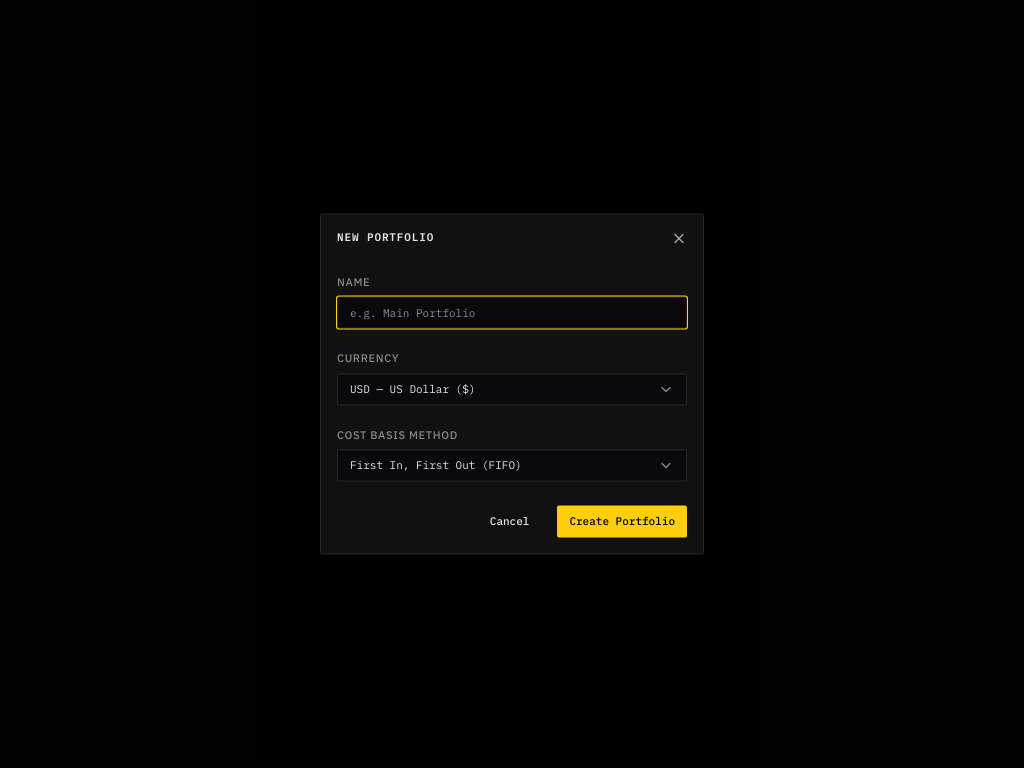
it: CreatePortfolioDialog — name validation (BP-330) › shows 'Name is required' when submitting blank name
// Click Create Portfolio without typing anything.
Click the button "Create Portfolio" at point(622, 522), box [557,506,687,538]
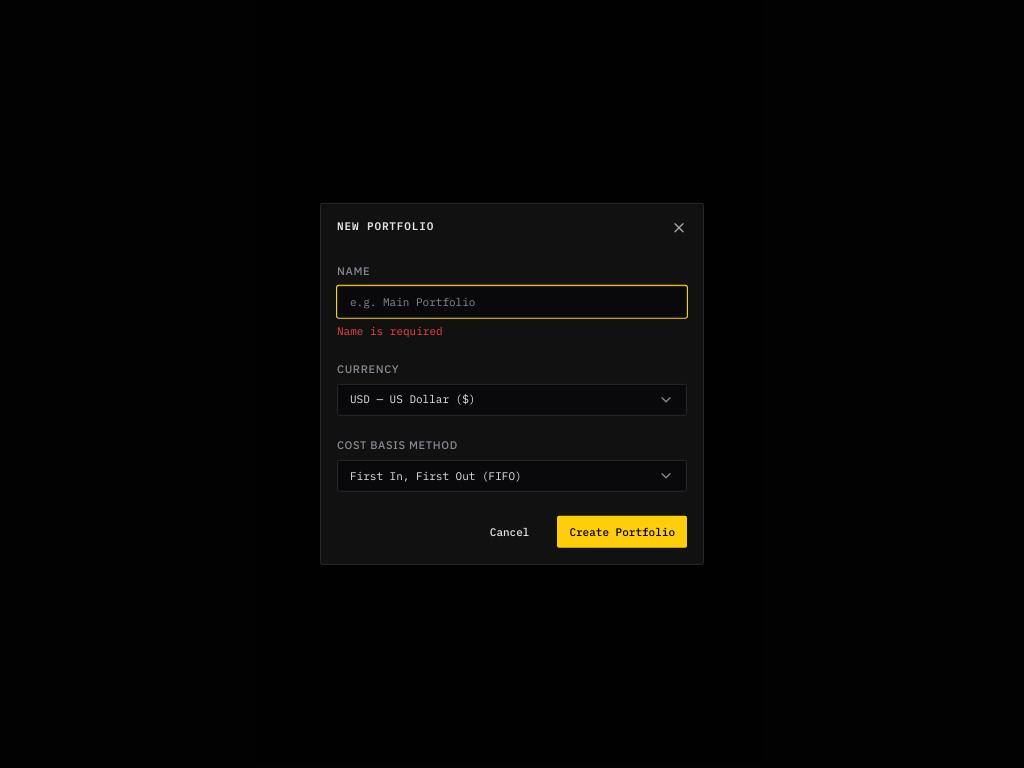
Check: the text "Name is required" is shown, box [337,324,443,338]
